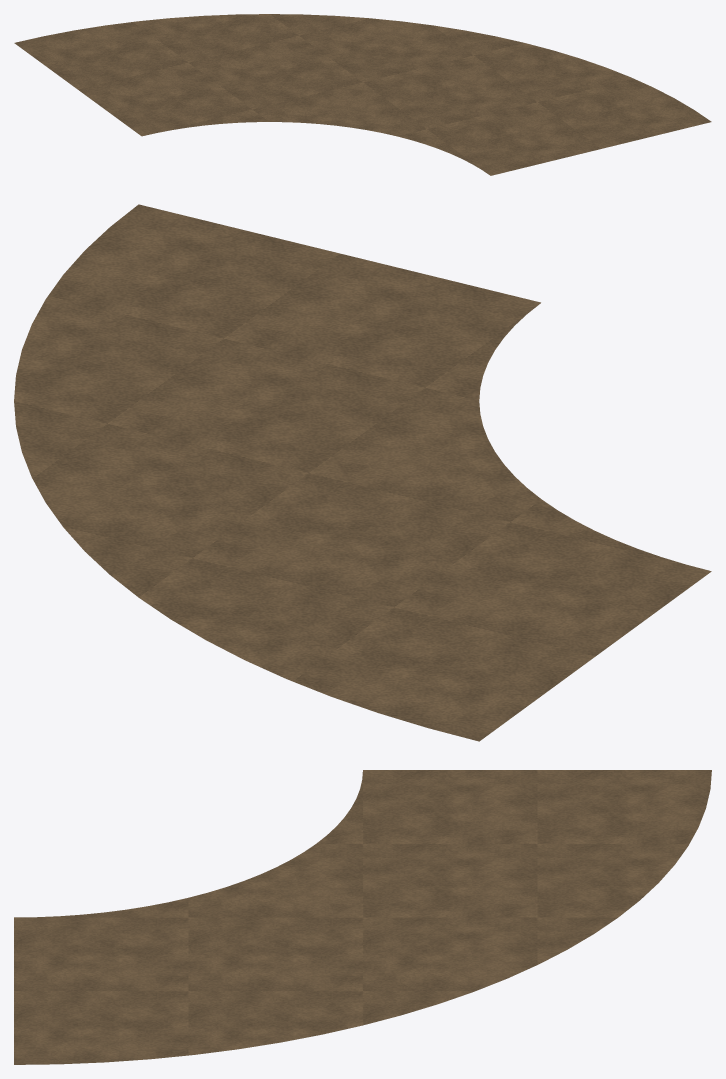
The model's file is path_curve_90.glb.
3 views of the same model, one above another, from view 1: azimuth 30°, elevation 25°; view 2: azimuth 150°, elevation 25°; view 3: azimuth 270°, elevation 25° (orthographic). The views are drawn at different scales.
Parts seen in each view (by area): view 1: path_curve_90_Mesh; view 2: path_curve_90_Mesh; view 3: path_curve_90_Mesh.
Part boxes in pixels (left/top/right/bottom): path_curve_90_Mesh: left=14, top=14, right=711, bottom=175; path_curve_90_Mesh: left=14, top=204, right=711, bottom=741; path_curve_90_Mesh: left=14, top=770, right=711, bottom=1064.
Size of the model in its own units: 4 by 0 by 4.
Materials: 1 (1 with a texture image).
